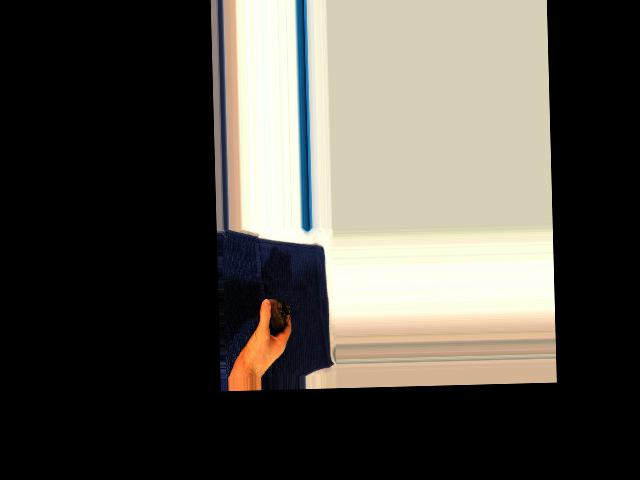beet: (245, 297, 290, 335)
